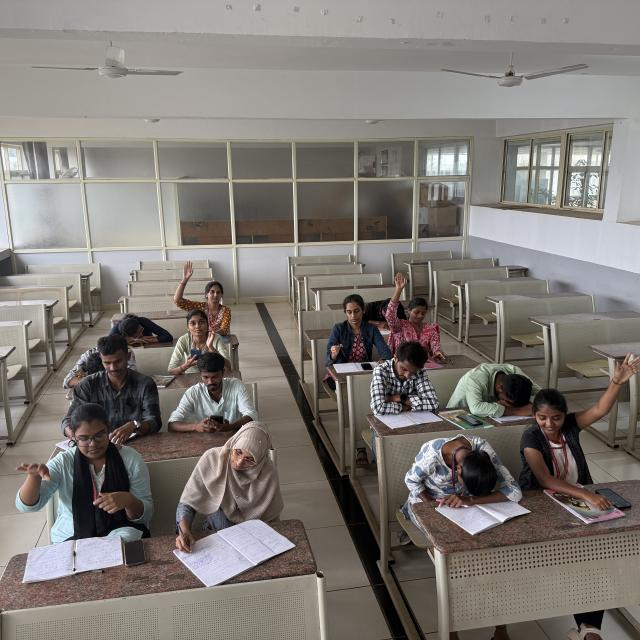Hand Rising: (528, 352, 640, 482), (166, 260, 238, 327), (387, 270, 442, 346)
Reading: (372, 340, 437, 421)
Sleeping: (405, 426, 521, 498), (450, 355, 543, 413), (63, 338, 141, 388), (114, 308, 176, 350), (363, 295, 408, 324)
Using Phone: (164, 352, 258, 432), (170, 312, 237, 375)
Writing: (166, 424, 293, 568), (323, 288, 395, 366)
